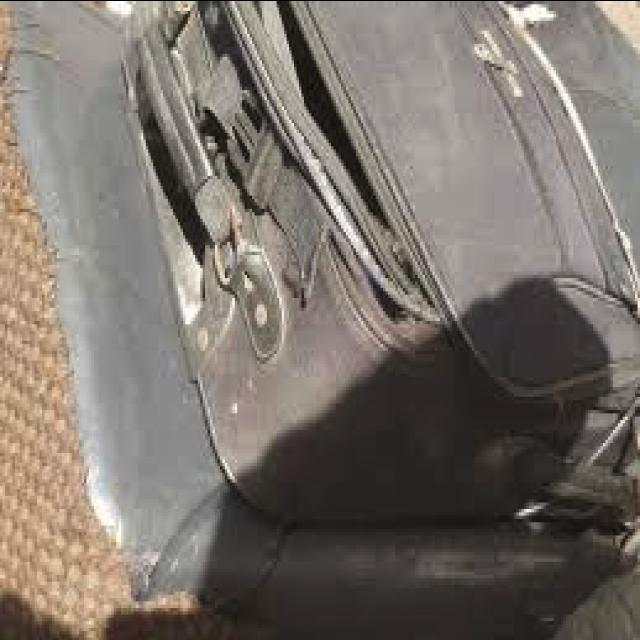Damage-bag: (224, 3, 472, 373)
